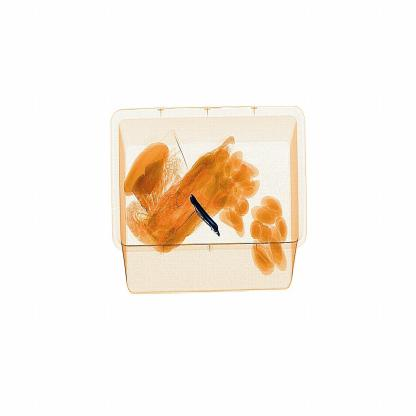knife: (190, 195, 223, 243)
